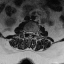CCS_normal: (29, 29, 31, 38)
LFS_normal: (33, 29, 35, 36)
LLS_normal: (31, 29, 33, 37)
RFS_normal: (25, 28, 27, 35)
RLS_normal: (27, 29, 29, 36)
